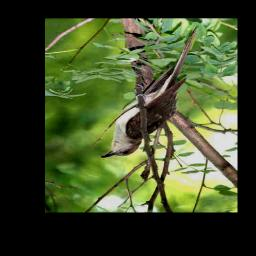Cuckoo: (101, 26, 199, 158)
